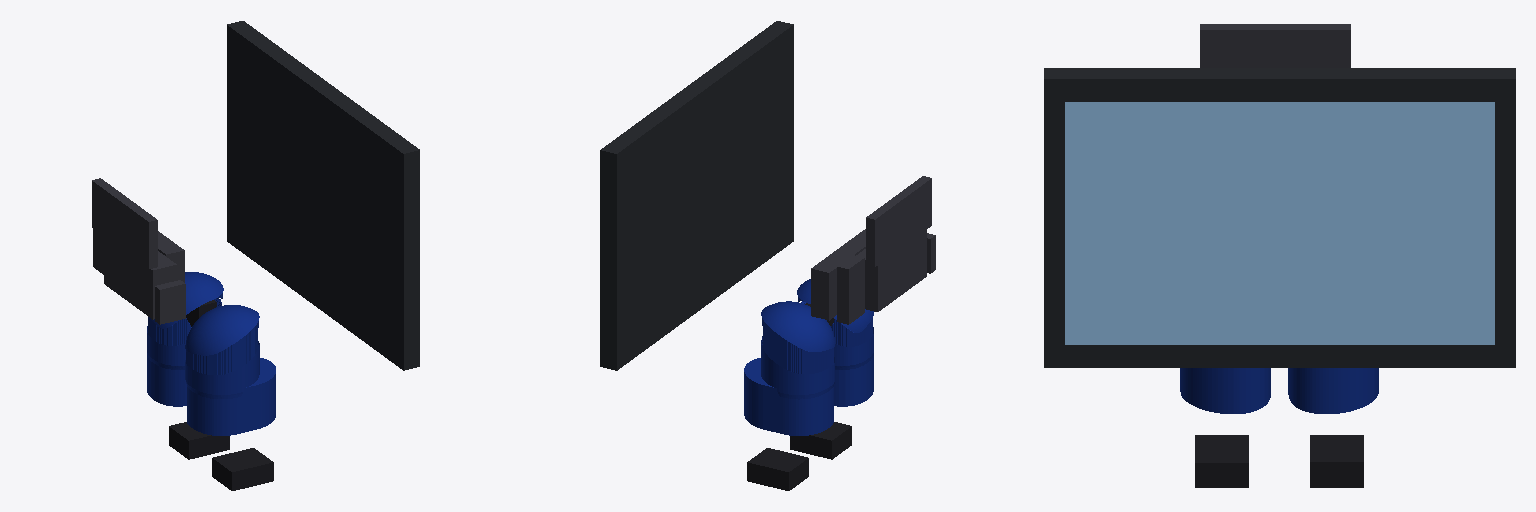
robot.urdf — haetburi:
<?xml version="1.0"?>
<!-- Haetburi biped (v20_sts3032) - generated by tools/build_model.py, do not edit by hand -->
<robot name="haetburi">
  <mujoco>
    <compiler meshdir="." balanceinertia="true" discardvisual="false" strippath="false" fusestatic="false"/>
  </mujoco>
  <material name="display"><color rgba="0.18 0.19 0.21 1"/></material>
  <material name="screen"><color rgba="0.62 0.80 0.95 1"/></material>
  <material name="shell"><color rgba="0.106 0.216 0.541 1"/></material>
  <material name="motor"><color rgba="0.15 0.15 0.17 1"/></material>
  <material name="foot"><color rgba="0.25 0.25 0.28 1"/></material>
  <link name="world"/>
  <joint name="floating_base" type="floating">
    <parent link="world"/><child link="pelvis"/>
    <origin xyz="0 0 0" rpy="0 0 0"/>
  </joint>
  <link name="pelvis">
    <inertial>
      <origin xyz="-0.0101469 0.000600883 0.0391465" rpy="0 0 0"/>
      <mass value="0.361149"/>
      <inertia ixx="0.00040983" ixy="-6.66156e-07" ixz="0.000170304" iyy="0.000463219" iyz="-6.04899e-06" izz="0.000437447"/>
    </inertial>
    <visual><origin xyz="0 0 0" rpy="0 0 0"/><geometry><mesh filename="meshes/pelvis.stl"/></geometry><material name="shell"/></visual>
    <visual><origin xyz="0.00500246 0.0183704 0.0215" rpy="0 0 0"/><geometry><box size="0.012 0.0275 0.023"/></geometry><material name="motor"/></visual>
    <visual><origin xyz="0.00499754 -0.0181526 0.0195" rpy="0 0 0"/><geometry><box size="0.012 0.0275 0.023"/></geometry><material name="motor"/></visual>
    <visual><origin xyz="-0.04564 -0.00584 0.068" rpy="0 0 0"/><geometry><box size="0.016 0.056 0.031"/></geometry><material name="foot"/></visual>
    <visual><origin xyz="-0.02964 0.01416 0.068" rpy="0 0 0"/><geometry><box size="0.012 0.065 0.03"/></geometry><material name="foot"/></visual>
    <visual><origin xyz="-0.05364 -0.00184 0.1" rpy="0 0 0"/><geometry><box size="0.006 0.065 0.03"/></geometry><material name="foot"/></visual>
    <visual><origin xyz="-0.04364 0.03616 0.07" rpy="0 0 0"/><geometry><box size="0.008 0.018 0.035"/></geometry><material name="foot"/></visual>
    <visual><origin xyz="-0.04564 -0.03984 0.064" rpy="0 0 0"/><geometry><box size="0.017 0.006 0.022"/></geometry><material name="foot"/></visual>
    <collision><origin xyz="0.00697563 -0.000136661 0.0314" rpy="0 0 0"/><geometry><box size="0.0836344 0.111062 0.0348"/></geometry></collision>
  </link>
  <link name="torso">
    <inertial>
      <origin xyz="0.0242433 7.67415e-05 0.103843" rpy="0 0 0"/>
      <mass value="1.63093"/>
      <inertia ixx="0.0213251" ixy="-4.86061e-05" ixz="0.00369192" iyy="0.0210286" iyz="-5.19119e-05" izz="0.0121445"/>
    </inertial>
    <visual><origin xyz="0 0 0" rpy="0 0 0"/><geometry><mesh filename="meshes/torso.stl"/></geometry><material name="shell"/></visual>
    <visual><origin xyz="0.0784825 0 0.0374296" rpy="0 0 0"/><geometry><box size="0.01104 0.20208 0.136608"/></geometry><material name="display"/></visual>
    <visual><origin xyz="0.0840025 0 0.0374296" rpy="0 0 0"/><geometry><box size="0.0004 0.18432 0.1152"/></geometry><material name="screen"/></visual>
    <collision><origin xyz="-0.036439 -1.6963e-06 0.0268832" rpy="0 0 0"/><geometry><box size="0.17104 0.115978 0.114213"/></geometry></collision>
    <collision><origin xyz="0.044496 0.0898351 0.0541718" rpy="0 0 0"/><geometry><sphere radius="0.0649829"/></geometry></collision>
    <collision><origin xyz="0.0448036 -0.0899729 0.0541718" rpy="0 0 0"/><geometry><sphere radius="0.0649205"/></geometry></collision>
    <collision><origin xyz="-0.005585 0.000285622 0.109669" rpy="0 0 0"/><geometry><sphere radius="0.111459"/></geometry></collision>
    <collision><origin xyz="-0.00973205 -0.000131314 0.160993" rpy="0 0 0"/><geometry><sphere radius="0.12859"/></geometry></collision>
    <collision><origin xyz="-0.0148192 -0.00021673 0.212326" rpy="0 0 0"/><geometry><sphere radius="0.127101"/></geometry></collision>
    <collision><origin xyz="-0.0116256 0.000915539 0.263656" rpy="0 0 0"/><geometry><sphere radius="0.110519"/></geometry></collision>
    <collision><origin xyz="-0.00687921 0.00724674 0.315018" rpy="0 0 0"/><geometry><sphere radius="0.0787743"/></geometry></collision>
    <collision><origin xyz="-0.0126071 -0.00239521 0.366334" rpy="0 0 0"/><geometry><sphere radius="0.0457151"/></geometry></collision>
    <collision><origin xyz="0.0784825 0 0.0374296" rpy="0 0 0"/><geometry><box size="0.01104 0.20208 0.136608"/></geometry></collision>
  </link>
  <link name="leg_l">
    <inertial>
      <origin xyz="-0.00188602 0.00407267 -0.0240287" rpy="0 0 0"/>
      <mass value="0.133605"/>
      <inertia ixx="6.49957e-05" ixy="3.76193e-07" ixz="2.30272e-06" iyy="6.66961e-05" iyz="8.0172e-08" izz="3.55765e-05"/>
    </inertial>
    <visual><origin xyz="0 0 0" rpy="0 0 0"/><geometry><mesh filename="meshes/leg_l.stl"/></geometry><material name="shell"/></visual>
    <visual><origin xyz="0.00106951 0.0033 -0.0285" rpy="0 0 0"/><geometry><box size="0.012 0.0275 0.023"/></geometry><material name="motor"/></visual>
    <collision><origin xyz="0.000630471 0.00457432 -0.00838703" rpy="0 0 0"/><geometry><box size="0.0544781 0.0395936 0.0712259"/></geometry></collision>
  </link>
  <link name="ankle_l">
    <inertial>
      <origin xyz="0.00239784 -0.00136438 -0.0213" rpy="0 0 0"/>
      <mass value="0.0218531"/>
      <inertia ixx="6.2186e-06" ixy="0" ixz="0" iyy="4.03329e-06" iyz="0" izz="3.64219e-06"/>
    </inertial>
  </link>
  <link name="foot_l">
    <inertial>
      <origin xyz="0.000512288 0.00462479 -0.000920763" rpy="0 0 0"/>
      <mass value="0.0867579"/>
      <inertia ixx="1.73764e-05" ixy="-8.62792e-07" ixz="-2.11128e-07" iyy="2.63174e-05" iyz="-7.80465e-07" izz="3.05848e-05"/>
    </inertial>
    <visual><origin xyz="0 0 0" rpy="0 0 0"/><geometry><mesh filename="meshes/foot_l.stl"/></geometry><material name="shell"/></visual>
    <visual><origin xyz="0 0.0055 4.44089e-19" rpy="0 0 0"/><geometry><box size="0.0275 0.023 0.012"/></geometry><material name="motor"/></visual>
    <collision><origin xyz="0 0 0" rpy="0 0 0"/><geometry><mesh filename="meshes/foot_l.stl"/></geometry></collision>
  </link>
  <link name="leg_r">
    <inertial>
      <origin xyz="-0.00186222 -0.00455071 -0.0223818" rpy="0 0 0"/>
      <mass value="0.133045"/>
      <inertia ixx="6.22487e-05" ixy="-4.06727e-07" ixz="2.19329e-06" iyy="6.38981e-05" iyz="-1.3015e-07" izz="3.536e-05"/>
    </inertial>
    <visual><origin xyz="0 0 0" rpy="0 0 0"/><geometry><mesh filename="meshes/leg_r.stl"/></geometry><material name="shell"/></visual>
    <visual><origin xyz="0.00125821 -0.0038 -0.0265" rpy="0 0 0"/><geometry><box size="0.012 0.0275 0.023"/></geometry><material name="motor"/></visual>
    <collision><origin xyz="0.000636586 -0.00505662 -0.00741951" rpy="0 0 0"/><geometry><box size="0.0544433 0.0396756 0.069161"/></geometry></collision>
  </link>
  <link name="ankle_r">
    <inertial>
      <origin xyz="0.00235946 0.00125788 -0.0213" rpy="0 0 0"/>
      <mass value="0.0218531"/>
      <inertia ixx="6.2186e-06" ixy="0" ixz="0" iyy="4.03329e-06" iyz="0" izz="3.64219e-06"/>
    </inertial>
  </link>
  <link name="foot_r">
    <inertial>
      <origin xyz="0.00040167 -0.00452023 -0.000959733" rpy="0 0 0"/>
      <mass value="0.0865718"/>
      <inertia ixx="1.7241e-05" ixy="8.98297e-07" ixz="-1.46734e-07" iyy="2.61841e-05" iyz="7.6138e-07" izz="3.04562e-05"/>
    </inertial>
    <visual><origin xyz="0 0 0" rpy="0 0 0"/><geometry><mesh filename="meshes/foot_r.stl"/></geometry><material name="shell"/></visual>
    <visual><origin xyz="0 -0.0055 4.44089e-19" rpy="0 0 0"/><geometry><box size="0.0275 0.023 0.012"/></geometry><material name="motor"/></visual>
    <collision><origin xyz="0 0 0" rpy="0 0 0"/><geometry><mesh filename="meshes/foot_r.stl"/></geometry></collision>
  </link>
  <joint name="waist_fixed" type="fixed">
    <parent link="pelvis"/><child link="torso"/>
    <origin xyz="0 0 0.0488" rpy="0 0 0"/>
  </joint>
  <joint name="hip_pitch_l" type="revolute">
    <parent link="pelvis"/><child link="leg_l"/>
    <origin xyz="0.00500246 0.0183704 0.016" rpy="0 0 0"/>
    <axis xyz="0 1 0"/>
    <limit lower="-0.523599" upper="0.436332" effort="0.44" velocity="11.6"/>
    <dynamics damping="0.03142857142857144" friction="0.012571428571428574"/>
  </joint>
  <joint name="hip_pitch_r" type="revolute">
    <parent link="pelvis"/><child link="leg_r"/>
    <origin xyz="0.00499754 -0.0181526 0.014" rpy="0 0 0"/>
    <axis xyz="0 1 0"/>
    <limit lower="-0.523599" upper="0.436332" effort="0.44" velocity="11.6"/>
    <dynamics damping="0.03142857142857144" friction="0.012571428571428574"/>
  </joint>
  <joint name="ankle_pitch_l" type="revolute">
    <parent link="leg_l"/><child link="ankle_l"/>
    <origin xyz="0.00106951 0.0033 -0.034" rpy="0 0 0"/>
    <axis xyz="0 1 0"/>
    <limit lower="-0.261799" upper="0.261799" effort="0.44" velocity="11.6"/>
    <dynamics damping="0.03142857142857144" friction="0.012571428571428574"/>
  </joint>
  <joint name="ankle_pitch_r" type="revolute">
    <parent link="leg_r"/><child link="ankle_r"/>
    <origin xyz="0.00125821 -0.0038 -0.032" rpy="0 0 0"/>
    <axis xyz="0 1 0"/>
    <limit lower="-0.261799" upper="0.261799" effort="0.44" velocity="11.6"/>
    <dynamics damping="0.03142857142857144" friction="0.012571428571428574"/>
  </joint>
  <joint name="ankle_roll_l" type="revolute">
    <parent link="ankle_l"/><child link="foot_l"/>
    <origin xyz="0.00479569 -0.00272877 -0.0426" rpy="0 0 0"/>
    <axis xyz="1 0 0"/>
    <limit lower="-0.261799" upper="0.261799" effort="0.44" velocity="11.6"/>
    <dynamics damping="0.03142857142857144" friction="0.012571428571428574"/>
  </joint>
  <joint name="ankle_roll_r" type="revolute">
    <parent link="ankle_r"/><child link="foot_r"/>
    <origin xyz="0.00471892 0.00251576 -0.0426" rpy="0 0 0"/>
    <axis xyz="1 0 0"/>
    <limit lower="-0.261799" upper="0.261799" effort="0.44" velocity="11.6"/>
    <dynamics damping="0.03142857142857144" friction="0.012571428571428574"/>
  </joint>
</robot>

--- Render facts (derived) ---
3 views of the same robot in one strip: view 1: azimuth 30°, elevation 25°; view 2: azimuth 150°, elevation 25°; view 3: azimuth 270°, elevation 25° (orthographic).
Model haetburi with 9 links and 8 joints (6 revolute, 1 fixed, 1 floating), rooted at world, posed all joints at 0.
Links seen in each view (by area): view 1: torso, leg_r, pelvis, leg_l, foot_r, foot_l; view 2: torso, pelvis, leg_l, leg_r, foot_l, foot_r; view 3: torso, pelvis, leg_l, leg_r, foot_l, foot_r.
Link boxes in pixels (x1,y1,x2,y2): torso: (227, 21, 419, 370); leg_r: (185, 305, 275, 435); pelvis: (92, 178, 216, 326); leg_l: (147, 272, 223, 406); foot_r: (212, 448, 273, 490); foot_l: (169, 422, 229, 459); torso: (600, 21, 793, 370); pelvis: (805, 176, 935, 325); leg_l: (744, 301, 834, 435); leg_r: (797, 279, 873, 406); foot_l: (747, 448, 808, 490); foot_r: (790, 422, 851, 459); torso: (1044, 68, 1515, 367); pelvis: (1200, 24, 1350, 67); leg_l: (1288, 368, 1378, 413); leg_r: (1180, 368, 1270, 413); foot_l: (1310, 435, 1363, 487); foot_r: (1195, 435, 1248, 487).
Bounding box of the posed robot: 0.1408 × 0.2021 × 0.2211 m (x, y, z).
2 mesh visuals loaded from 6 distinct referenced files (2 binary STL); not drawn: 4 (reference not matched to a file when rendering).
